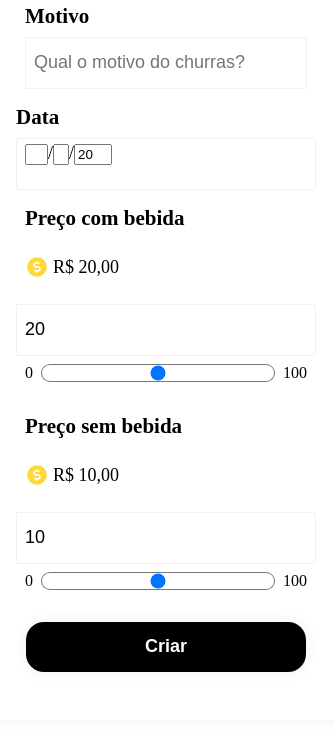
Test: CreateBarbecue › should show error messages for required fields
The width and height of the screenshot is (333, 737).
(page scrolled)
Click the button "Criar" at x=166, y=647, box [26,622,306,672]
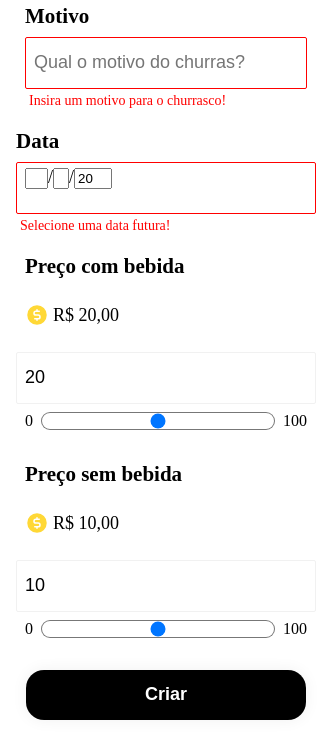
expect the text "Insira um motivo para o churrasco!" is shown: met, box [29,93,226,108]
